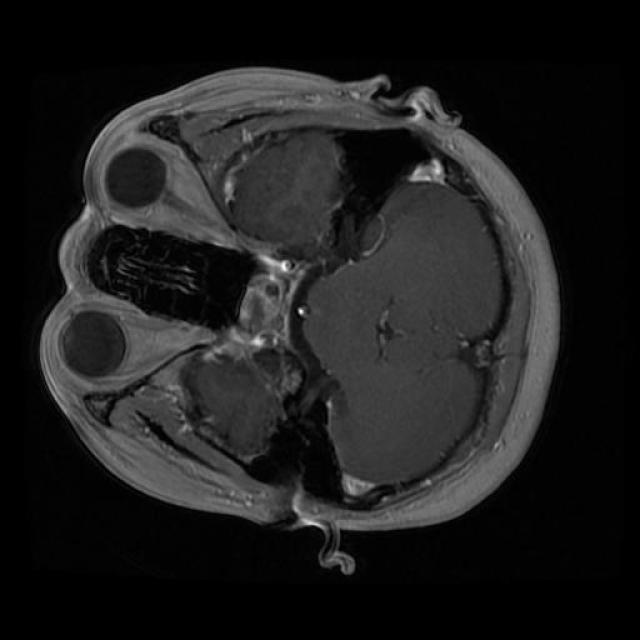Pituitary: (240, 273, 281, 331)
